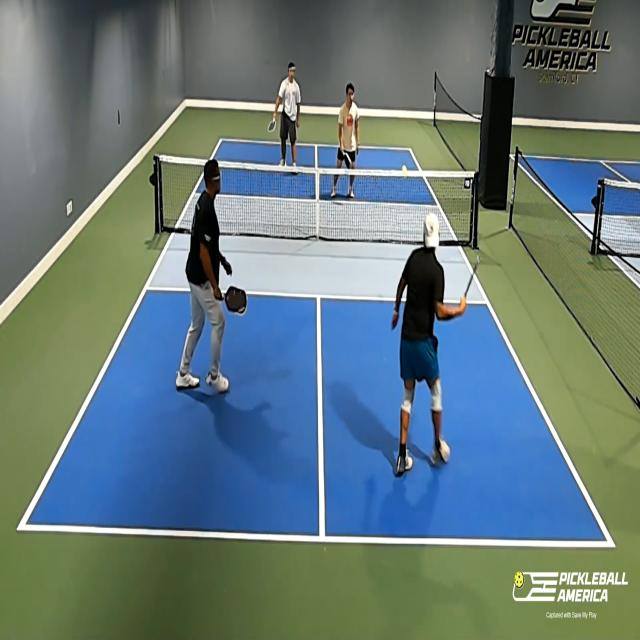Pickleball: (400, 164, 408, 178)
